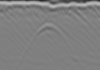hyperbola: (20, 22, 77, 60)
